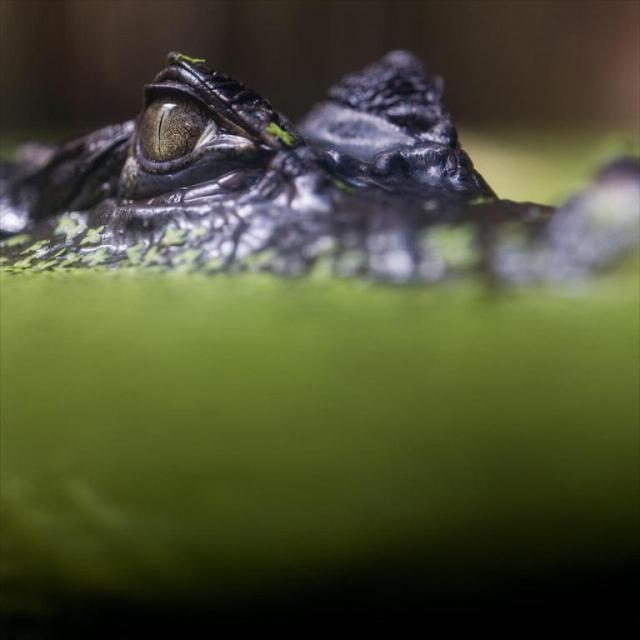crocodile: (0, 30, 639, 351)
